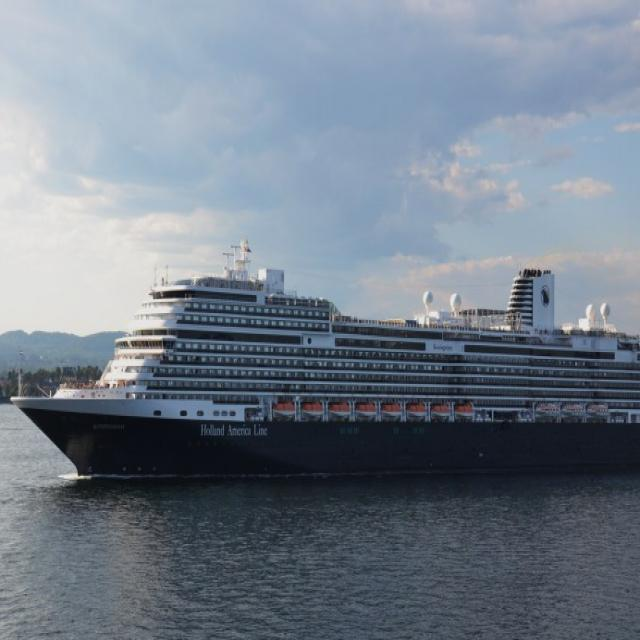cruises: (5, 239, 640, 491)
